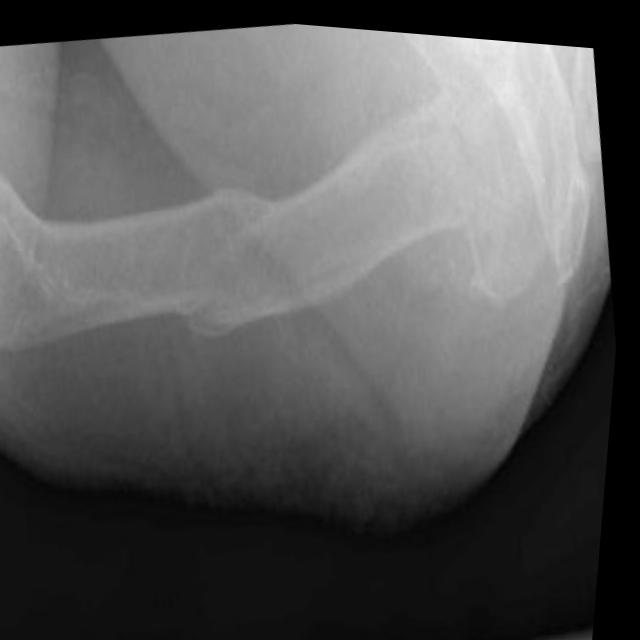fracture: (146, 161, 312, 389)
